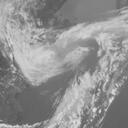cyclone: (19, 29, 98, 87)
